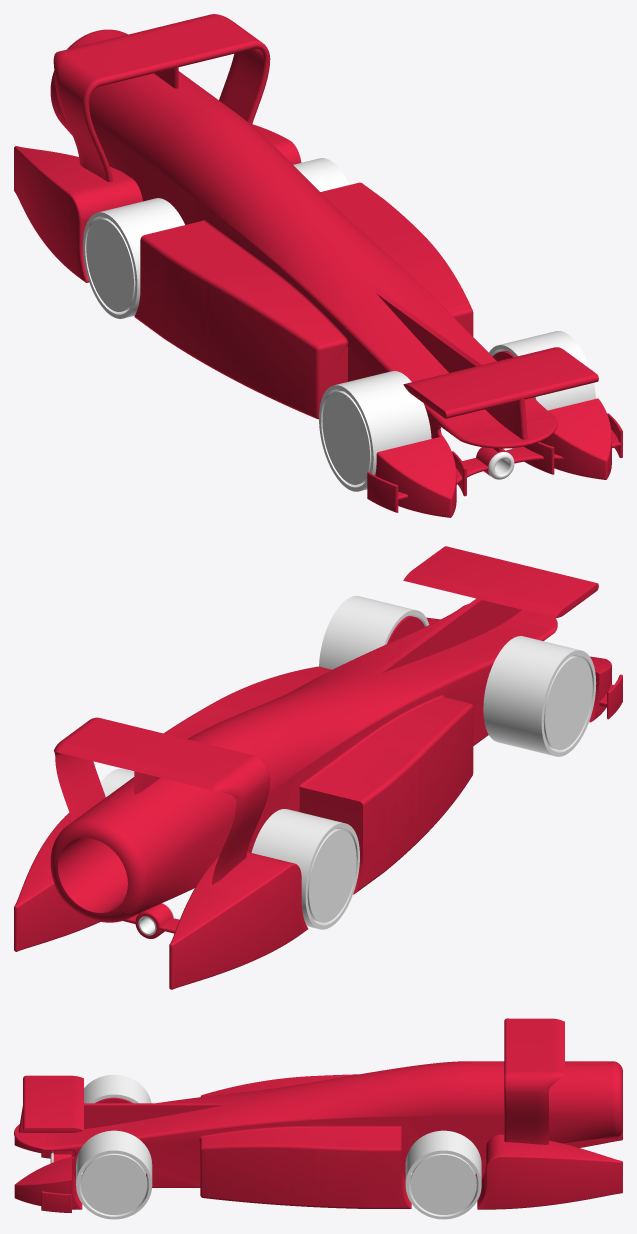
3 renders of one model, top to bottom at view 1: azimuth 30°, elevation 25°; view 2: azimuth 150°, elevation 25°; view 3: azimuth 270°, elevation 25°, orthographic. The views are drawn at different scales.
Visible parts, largest first — view 1: 10 P1.2 Assembly, 10 P1.2 Assembly.001, 10 P1.2 Assembly.004, 10 P1.2 Assembly.002, 10 P1.2 Assembly.003; view 2: 10 P1.2 Assembly, 10 P1.2 Assembly.001, 10 P1.2 Assembly.004, 10 P1.2 Assembly.002; view 3: 10 P1.2 Assembly, 10 P1.2 Assembly.003, 10 P1.2 Assembly.002, 10 P1.2 Assembly.001.
Part boxes in pixels (x1=…): 10 P1.2 Assembly: x1=14, y1=14, x2=622, y2=517; 10 P1.2 Assembly.001: x1=319, y1=371, x2=431, y2=491; 10 P1.2 Assembly.004: x1=83, y1=198, x2=184, y2=318; 10 P1.2 Assembly.002: x1=489, y1=331, x2=595, y2=448; 10 P1.2 Assembly.003: x1=293, y1=158, x2=349, y2=191; 10 P1.2 Assembly: x1=14, y1=546, x2=622, y2=989; 10 P1.2 Assembly.001: x1=483, y1=636, x2=596, y2=756; 10 P1.2 Assembly.004: x1=251, y1=809, x2=359, y2=929; 10 P1.2 Assembly.002: x1=319, y1=596, x2=429, y2=669; 10 P1.2 Assembly: x1=14, y1=1018, x2=622, y2=1212; 10 P1.2 Assembly.003: x1=405, y1=1130, x2=481, y2=1219; 10 P1.2 Assembly.002: x1=76, y1=1130, x2=152, y2=1219; 10 P1.2 Assembly.001: x1=84, y1=1074, x2=151, y2=1103.
Size of the model in its own units: 12.42 by 9.56 by 38.77.
